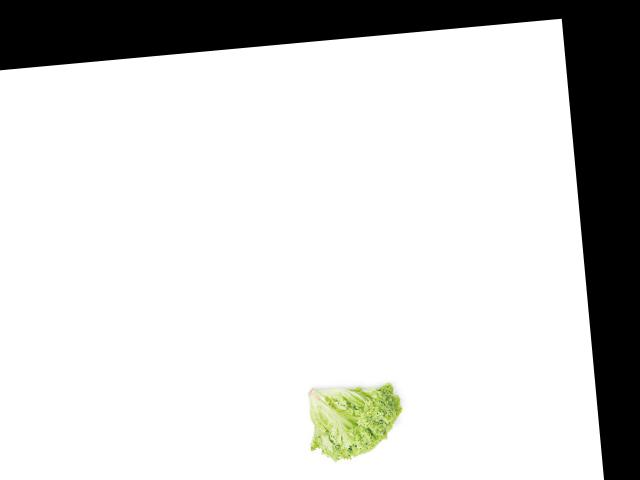lettuce: (300, 371, 411, 468)
